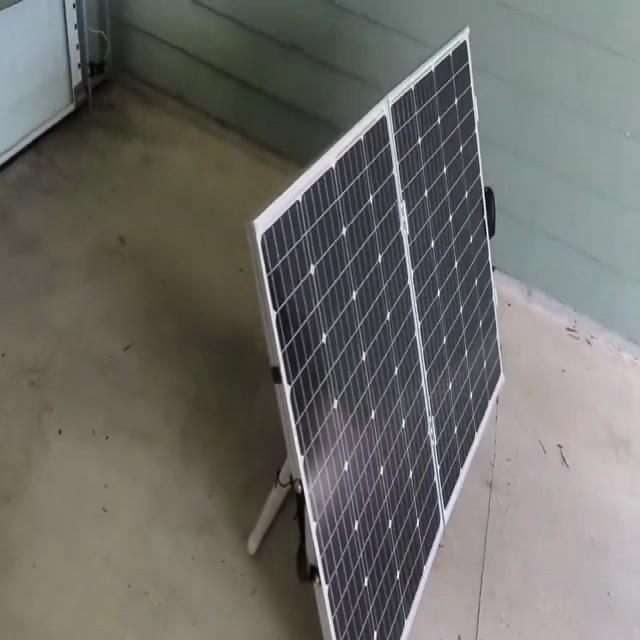Normal Solar Panel: (252, 31, 503, 640)
